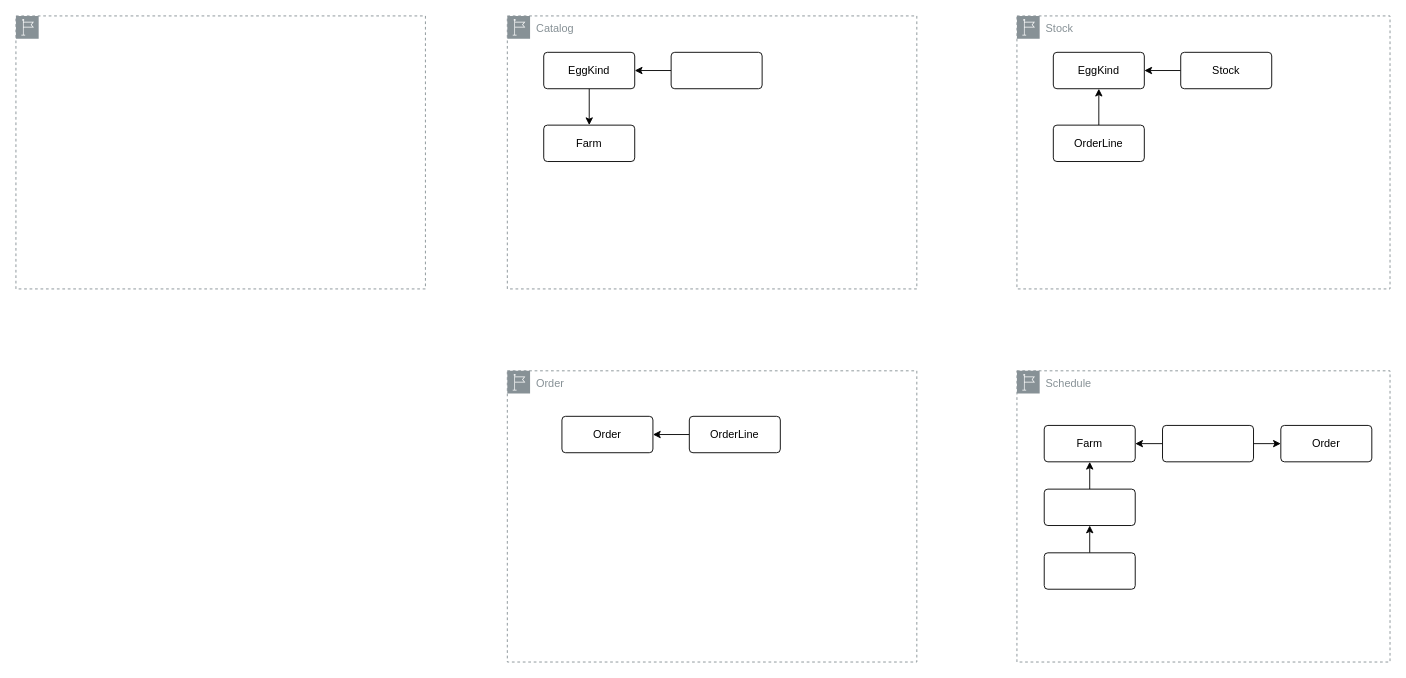
Some shapes in this 1406 by 678 pixel diagram are drawn without their labels. The centre of each missing label's shape, as x and y in pixels:
Absence: [1089,570]
Cart: [220,152]
Farmer: [1089,507]
Handover: [1208,443]
Price: [716,70]
